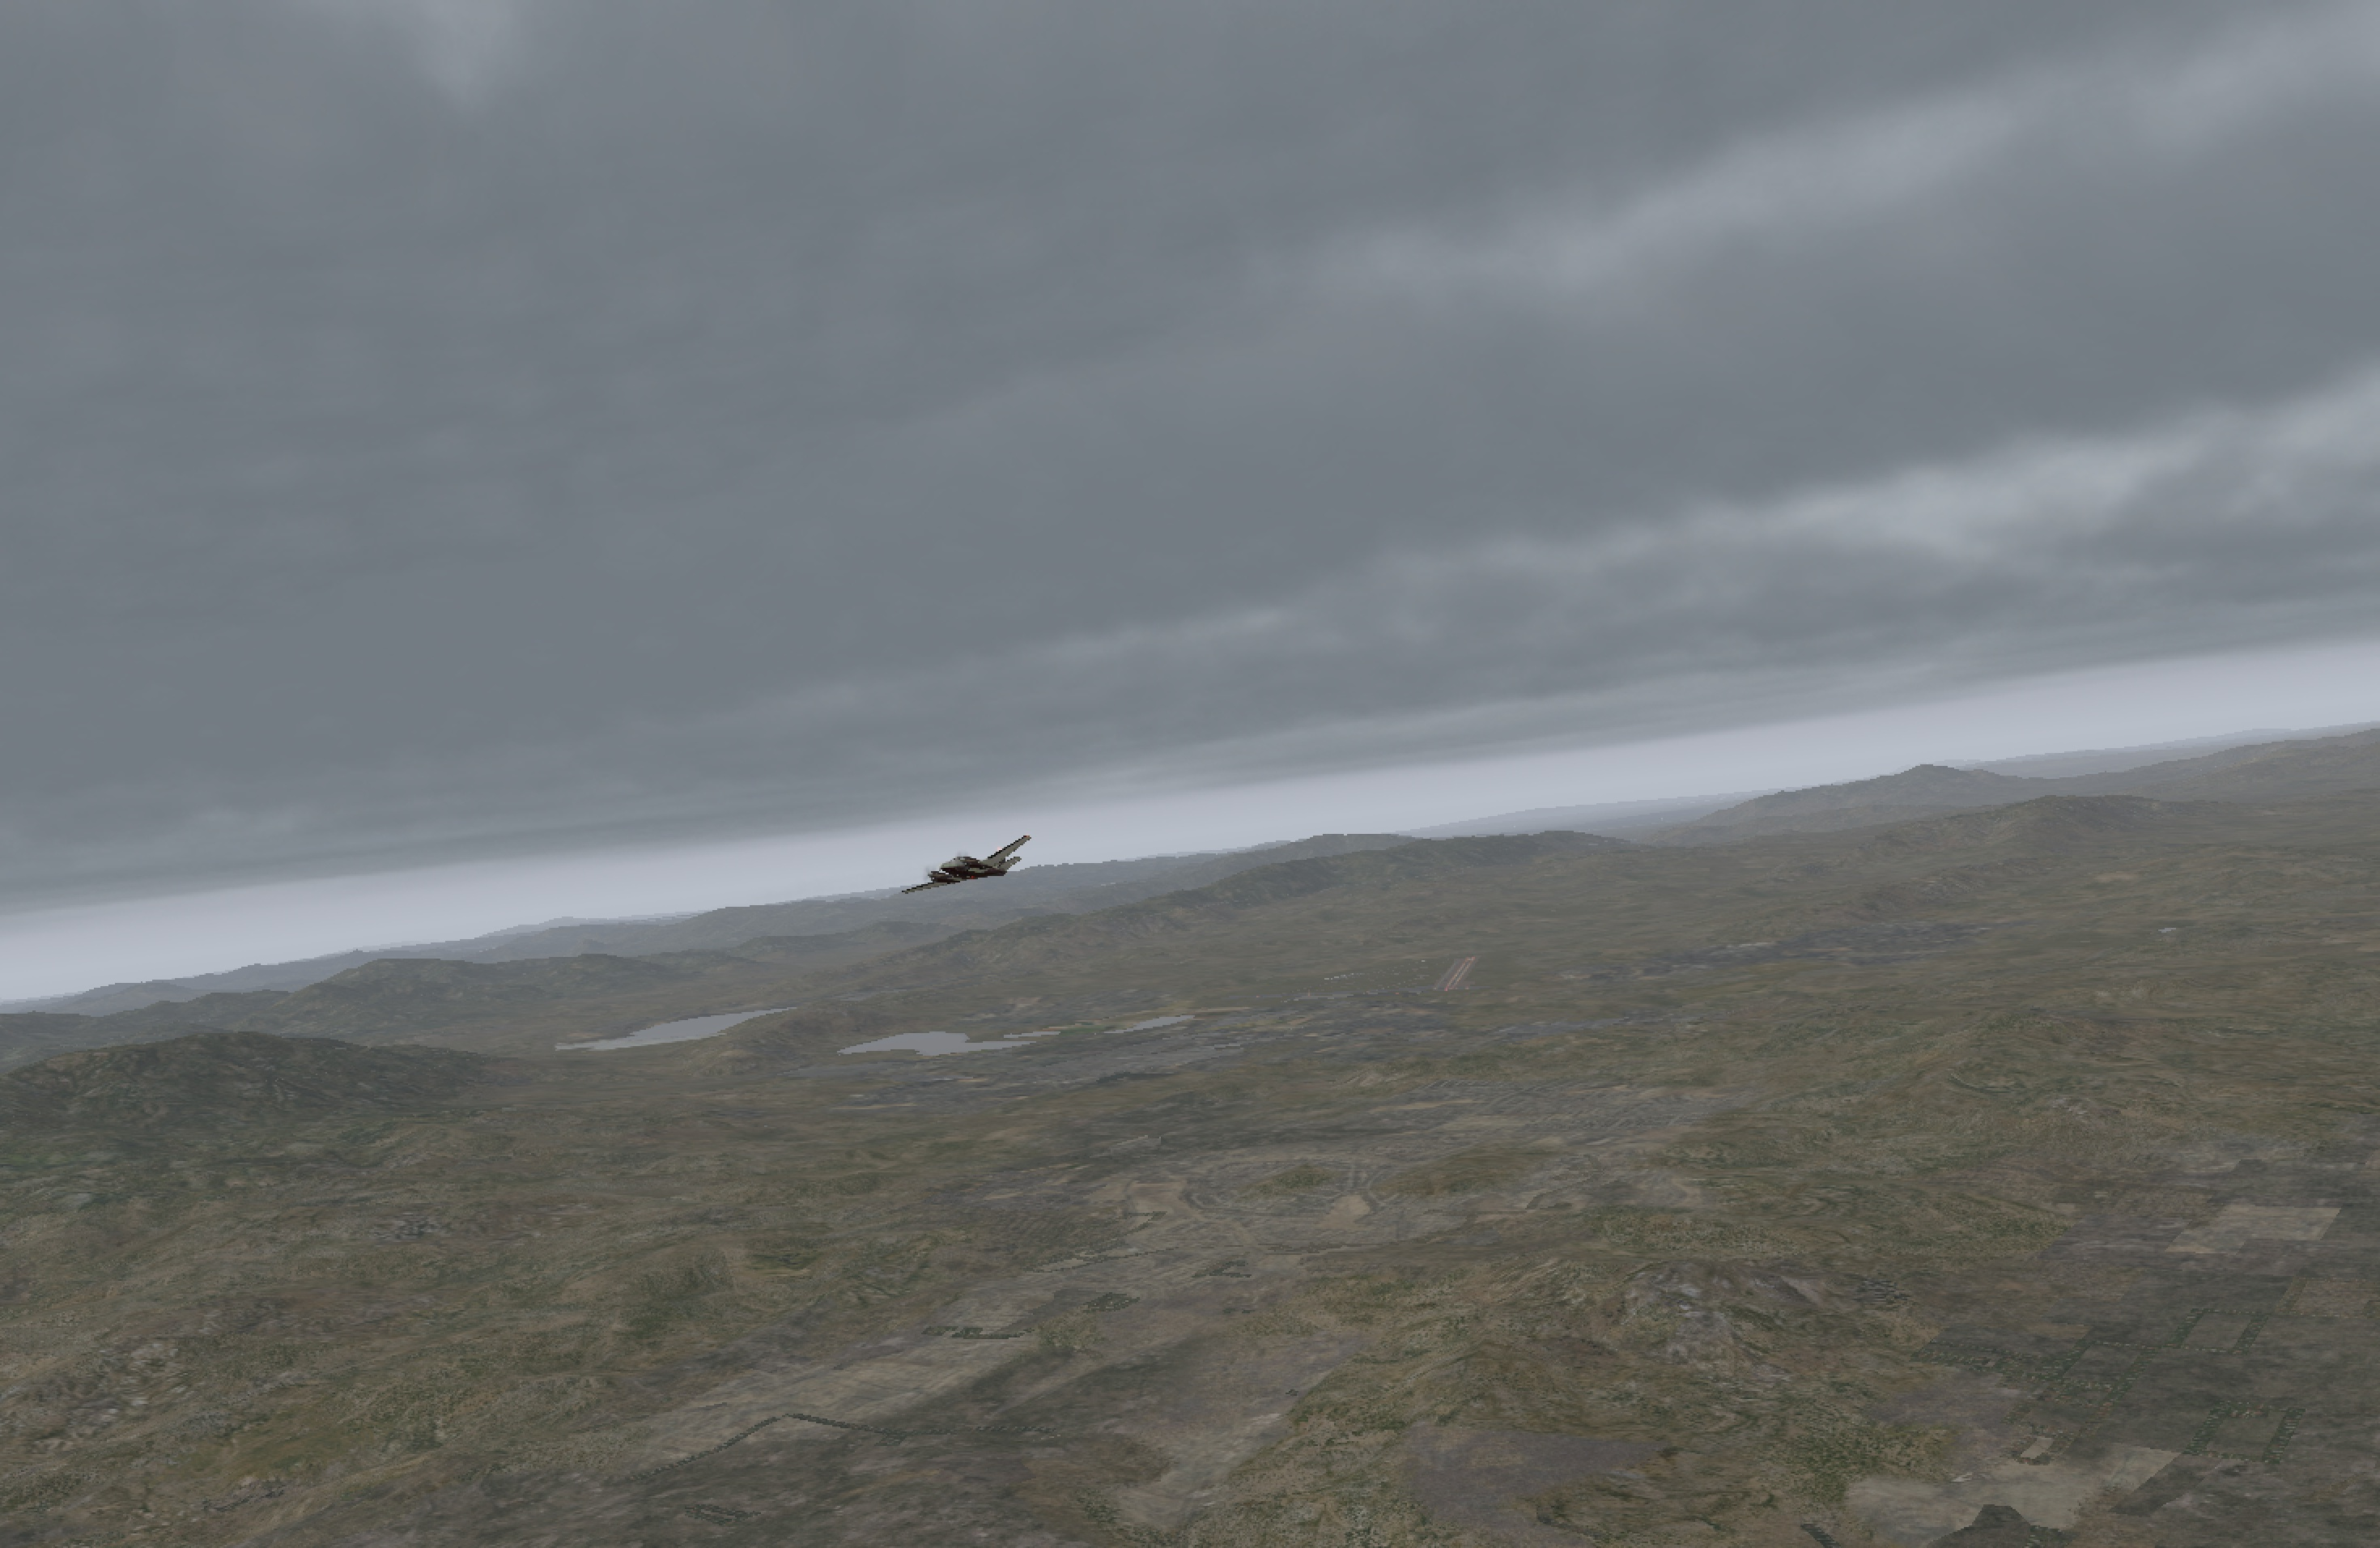aircraft: (881, 843, 1048, 906)
